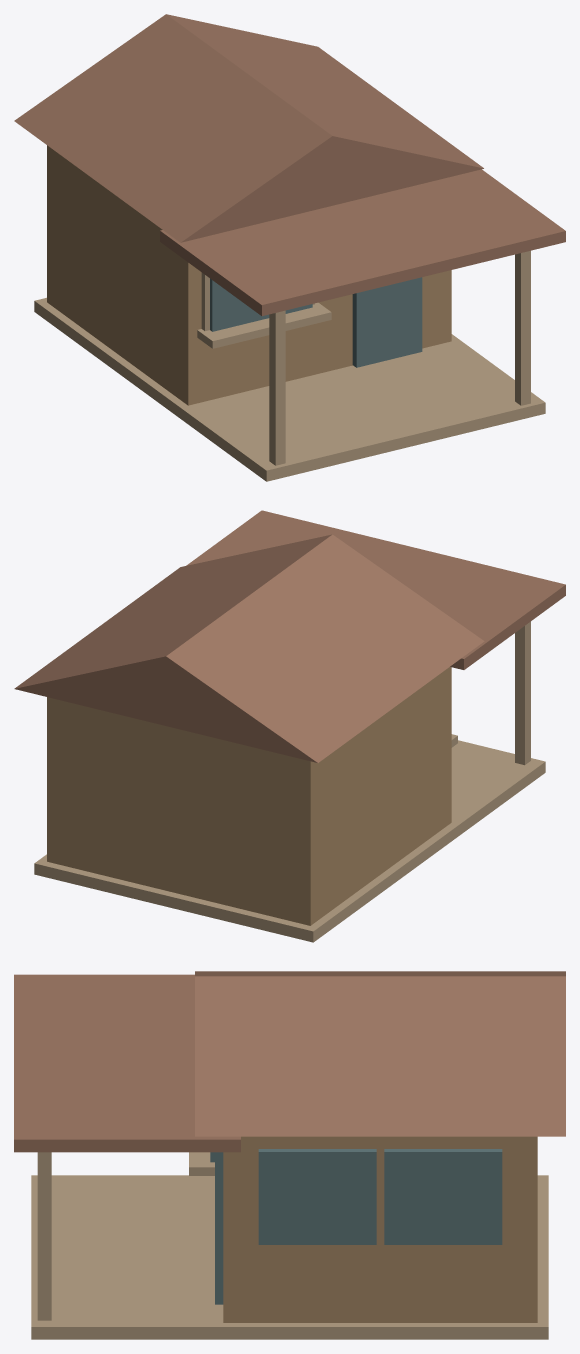
The model's file is snack_bar_01.glb.
3 views of the same model, one above another, from view 1: azimuth 30°, elevation 25°; view 2: azimuth 150°, elevation 25°; view 3: azimuth 270°, elevation 25° (orthographic). The views are drawn at different scales.
Parts seen in each view (by area): view 1: Snack_bar_01; view 2: Snack_bar_01; view 3: Snack_bar_01.
Boxes of the visible parts, x1,y1,x2,y2 form: Snack_bar_01: (14, 14, 565, 481); Snack_bar_01: (14, 510, 565, 942); Snack_bar_01: (14, 971, 565, 1339).
Bounding box in the file's own units: 4.64 × 3.76 × 6.54.
